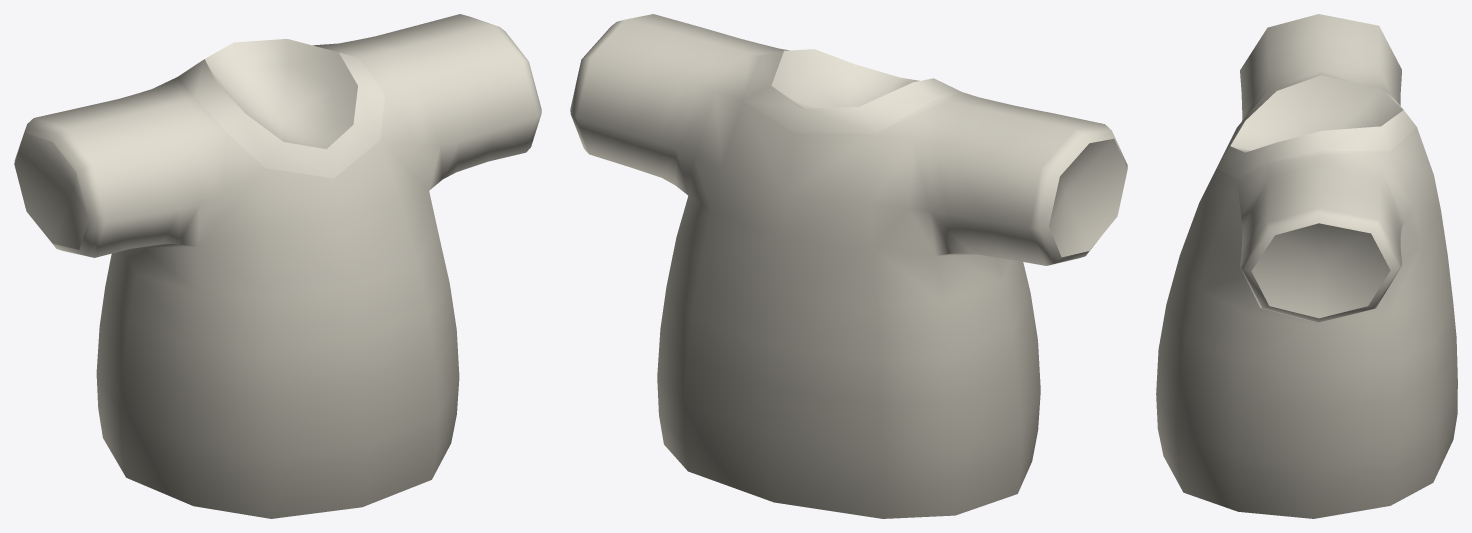
Rendered from Top_04.fbx.
3 views of the same model, side by side, from view 1: azimuth 30°, elevation 25°; view 2: azimuth 150°, elevation 25°; view 3: azimuth 270°, elevation 25° (orthographic). The views are drawn at different scales.
Parts seen in each view (by area): view 1: Top_04; view 2: Top_04; view 3: Top_04.
Boxes of the visible parts, <box> form: Top_04: <box>14,14,541,518</box>; Top_04: <box>570,14,1127,518</box>; Top_04: <box>1156,14,1457,518</box>.
Bounding box in the file's own units: 57.92 × 46.22 × 35.79.
